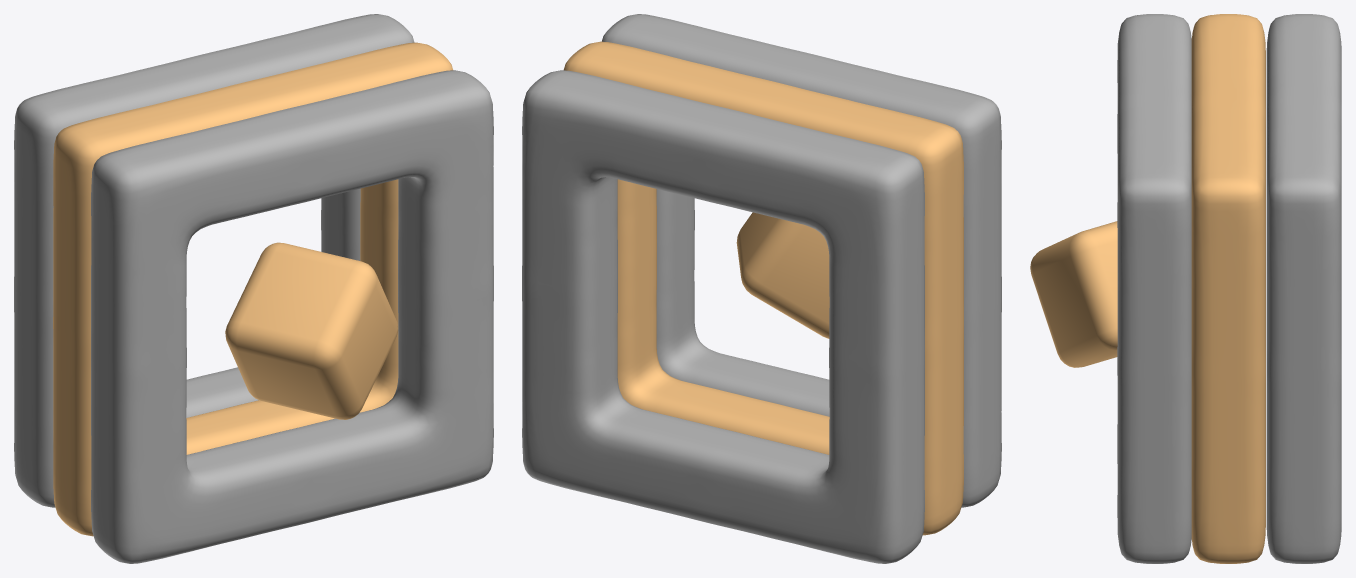
The model's file is rotating-cube-loading-animated-3d-icon-323338265846.glb.
3 views of the same model, side by side, from view 1: azimuth 30°, elevation 25°; view 2: azimuth 150°, elevation 25°; view 3: azimuth 270°, elevation 25° (orthographic). The views are drawn at different scales.
Parts seen in each view (by area): view 1: Rectangle 1, Rectangle 2, Rectangle 3, Cube.008; view 2: Rectangle 3, Rectangle 2, Rectangle 1, Cube.008; view 3: Rectangle 3, Rectangle 2, Rectangle 1, Cube.008.
Boxes of the visible parts, x1,y1,x2,y2 form: Rectangle 1: (91,70,493,563); Rectangle 2: (53,42,452,536); Rectangle 3: (14,14,414,507); Cube.008: (225,242,398,419); Rectangle 3: (522,70,924,563); Rectangle 2: (563,41,963,535); Rectangle 1: (602,14,1001,507); Cube.008: (736,212,829,338); Rectangle 3: (1266,14,1341,563); Rectangle 2: (1191,14,1265,563); Rectangle 1: (1117,14,1191,563); Cube.008: (1030,221,1117,367).
Size of the model in its own units: 2 by 2 by 1.47.
